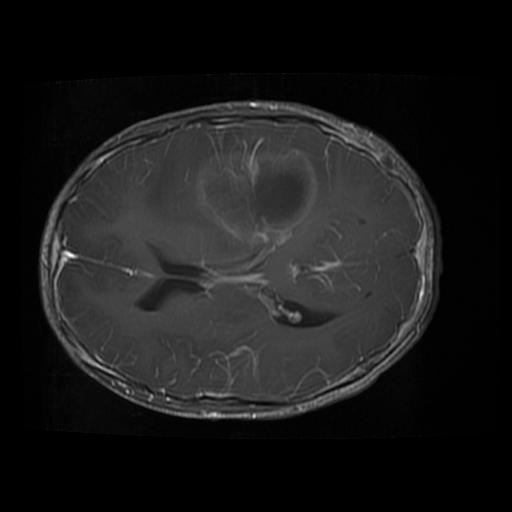glioma: (197, 151, 310, 239)
